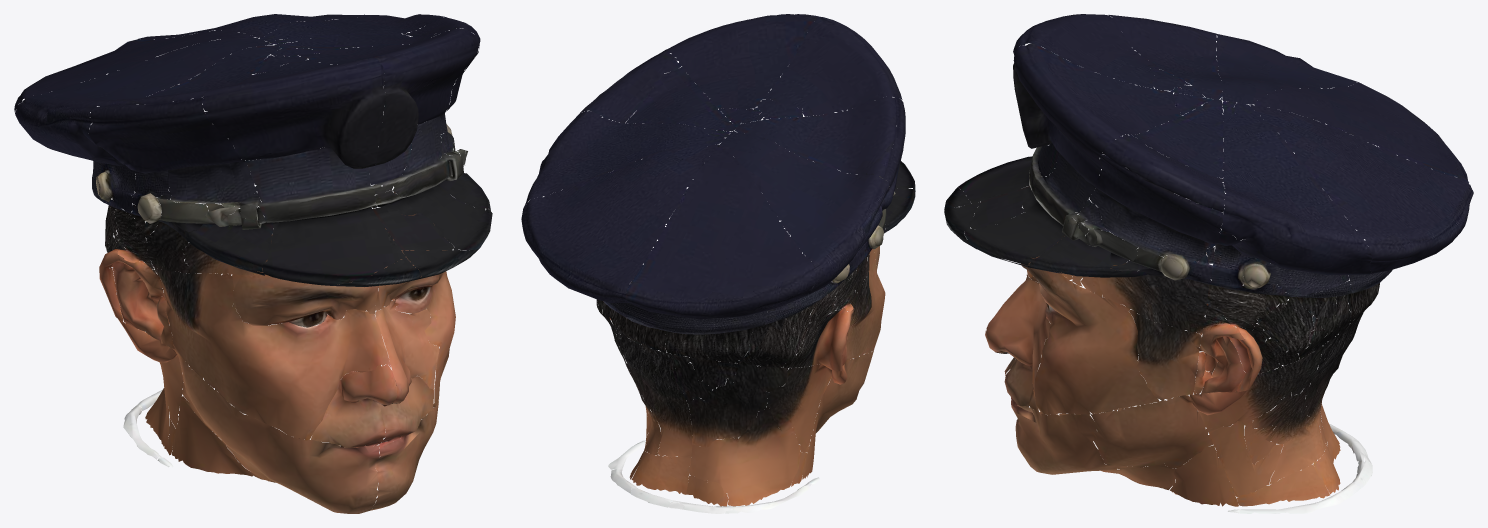
Rendered from police_head_prop.glb.
The picture shows the model from 3 angles, left to right: view 1: azimuth 30°, elevation 25°; view 2: azimuth 150°, elevation 25°; view 3: azimuth 270°, elevation 25°; orthographic projection. The views are drawn at different scales.
Parts seen in each view (by area): view 1: prop_police_head; view 2: prop_police_head; view 3: prop_police_head.
Boxes of the visible parts, x1=… form: prop_police_head: x1=14, y1=14, x2=492, y2=513; prop_police_head: x1=521, y1=14, x2=915, y2=513; prop_police_head: x1=944, y1=14, x2=1473, y2=513.
Bounding box in the file's own units: 0.5927 × 0.668 × 0.7547.
Materials: 1 (1 with a texture image).
